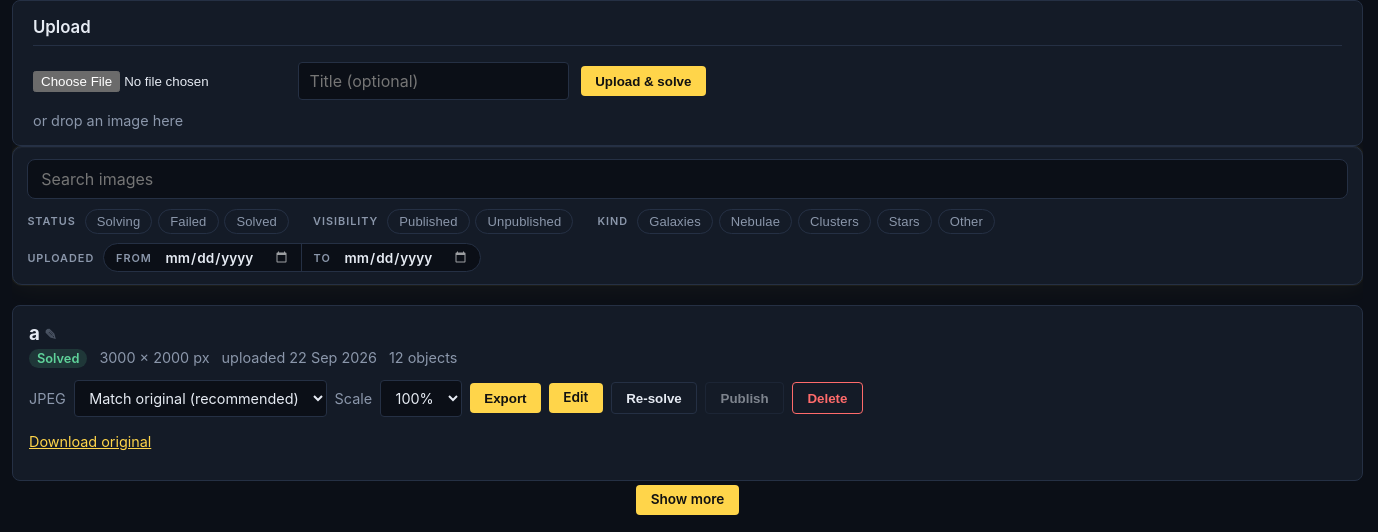
ImagesPage search and filters (#189) › a search that fails shows the error and no cards from the previous list
Type "veil" into the search field labelled "Search images" at (688, 179), box [27,159,1348,199]
Wait 250 ms
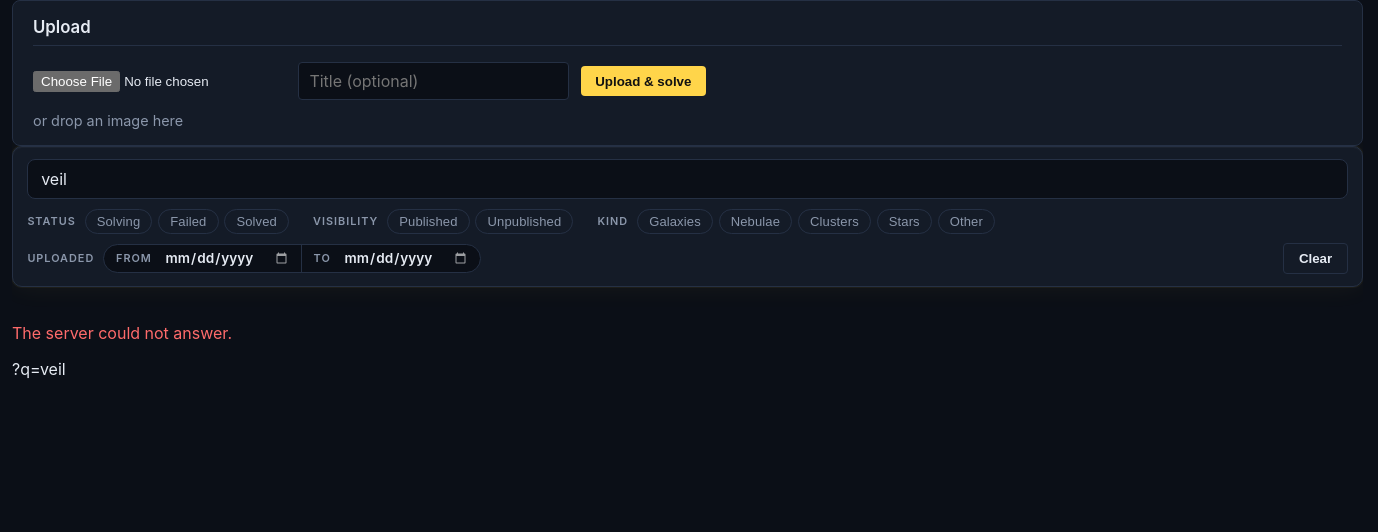
Check: the text "The server could not answer." is shown, box [12,323,232,343]
Check: the link "Show more" is gone
Check: the button "Clear" is shown, box [1284,243,1348,274]
